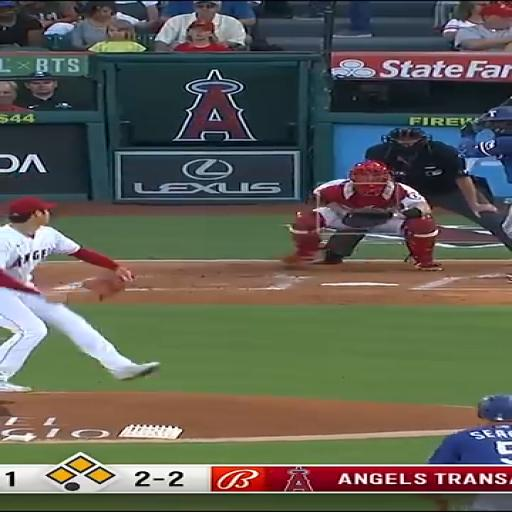bat: (473, 111, 489, 124)
